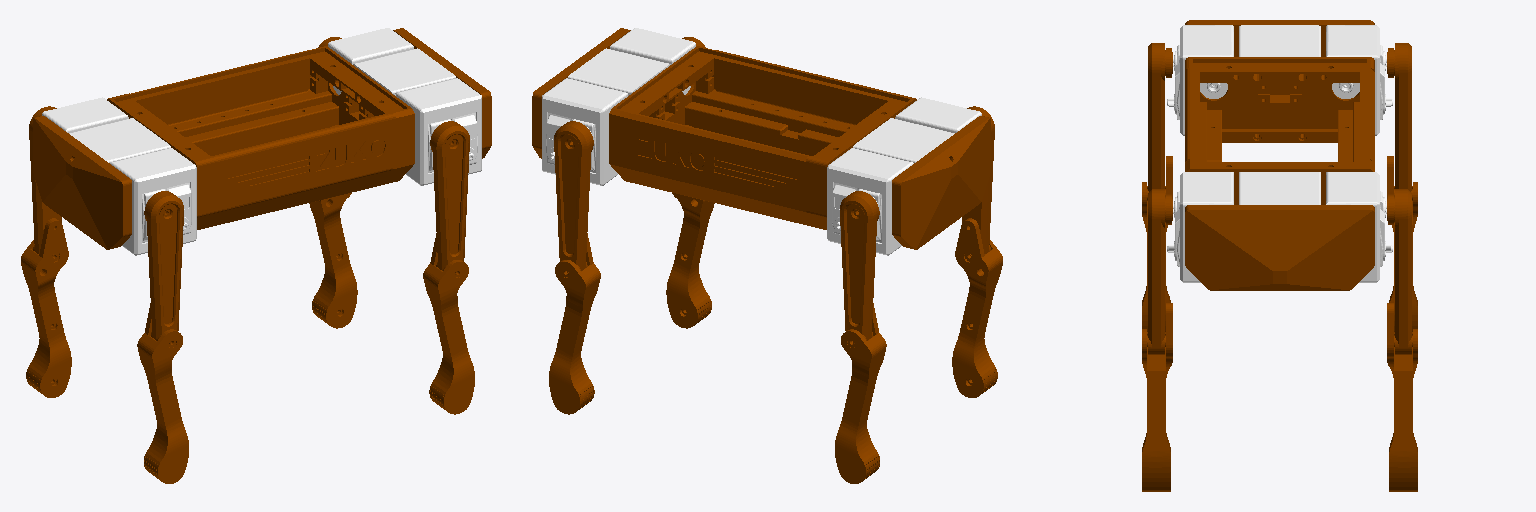
The robot description file, URDF, robot "zuko":
<?xml version="1.0" ?>
<!-- =================================================================================== -->
<!-- |    This document was autogenerated by xacro from [local-path]/zuko/quad_ws/src/quad_udrf/urdf/zuko.urdf.xacro | -->
<!-- |    EDITING THIS FILE BY HAND IS NOT RECOMMENDED                                 | -->
<!-- =================================================================================== -->
<robot name="zuko">
  <!--
<xacro:include filename="$(find quad_urdf)/urdf/zuko_hips_and_legs.urdf.xacro" />
-->
  <material name="brown">
    <color rgba="0.588 0.294 0.0 1"/>
  </material>
  <material name="black">
    <color rgba="0.1 0.1 0.1 1"/>
  </material>
  <material name="white">
    <color rgba="1 1 1 1"/>
  </material>
  <!-- STATIC Links -->
  <link name="base_link">
    <visual>
      <origin rpy="1.5707963267948966 0 -1.5707963267948966" xyz="-0.0025 0 0"/>
      <geometry>
        <mesh filename="package://stl/center_front.stl" scale="1 1 1"/>
      </geometry>
      <material name="brown"/>
    </visual>
    <collision>
      <origin rpy="1.5707963267948966 0 -1.5707963267948966" xyz="0 0 0"/>
      <geometry>
        <box size="0 0 0"/>
      </geometry>
    </collision>
    <inertial>
      <mass value="0.6"/>
      <origin rpy="0 0 0" xyz="0 0 0"/>
      <!-- Inertial Axes -->
      <inertia ixx="0.0" ixy="0" ixz="0" iyx="0" iyy="0.0" iyz="0" izx="0" izy="0" izz="0.0"/>
    </inertial>
  </link>
  <gazebo reference="base_link">
  </gazebo>
  <link name="side_left_link">
    <visual>
      <origin rpy="1.5707963267948966 0 1.5707963267948966" xyz="0 0 0"/>
      <geometry>
        <mesh filename="package://stl/side_left.stl" scale="1 1 1"/>
      </geometry>
      <material name="brown"/>
    </visual>
    <collision>
      <origin rpy="1.5707963267948966 0 1.5707963267948966" xyz="0 0 0"/>
      <geometry>
        <box size="0 0 0"/>
      </geometry>
    </collision>
    <inertial>
      <mass value="0.6"/>
      <origin rpy="0 0 0" xyz="0 0 0"/>
      <!-- Inertial Axes -->
      <inertia ixx="0.0" ixy="0" ixz="0" iyx="0" iyy="0.0" iyz="0" izx="0" izy="0" izz="0.0"/>
    </inertial>
  </link>
  <gazebo reference="side_left_link">
  </gazebo>
  <link name="side_right_link">
    <visual>
      <origin rpy="1.5707963267948966 0 -1.5707963267948966" xyz="0 0 0"/>
      <geometry>
        <mesh filename="package://stl/side_right.stl" scale="1 1 1"/>
      </geometry>
      <material name="brown"/>
    </visual>
    <collision>
      <origin rpy="1.5707963267948966 0 -1.5707963267948966" xyz="0 0 0"/>
      <geometry>
        <box size="0 0 0"/>
      </geometry>
    </collision>
    <inertial>
      <mass value="0.6"/>
      <origin rpy="0 0 0" xyz="0 0 0"/>
      <!-- Inertial Axes -->
      <inertia ixx="0.0" ixy="0" ixz="0" iyx="0" iyy="0.0" iyz="0" izx="0" izy="0" izz="0.0"/>
    </inertial>
  </link>
  <gazebo reference="side_right_link">
  </gazebo>
  <link name="center_back_link">
    <visual>
      <origin rpy="1.5707963267948966 0 1.5707963267948966" xyz="0.0025 0 0"/>
      <geometry>
        <mesh filename="package://stl/center_back.stl" scale="1 1 1"/>
      </geometry>
      <material name="brown"/>
    </visual>
    <collision>
      <origin rpy="1.5707963267948966 0 1.5707963267948966" xyz="0 0 0"/>
      <geometry>
        <box size="0 0 0"/>
      </geometry>
    </collision>
    <inertial>
      <mass value="0.6"/>
      <origin rpy="0 0 0" xyz="0 0 0"/>
      <!-- Inertial Axes -->
      <inertia ixx="0.0" ixy="0" ixz="0" iyx="0" iyy="0.0" iyz="0" izx="0" izy="0" izz="0.0"/>
    </inertial>
  </link>
  <gazebo reference="center_back_link">
  </gazebo>
  <link name="bridge_front_link">
    <visual>
      <origin rpy="1.5707963267948966 0 -1.5707963267948966" xyz="0 0 0"/>
      <geometry>
        <mesh filename="package://stl/bridge_front.stl" scale="1 1 1"/>
      </geometry>
      <material name="white"/>
    </visual>
    <collision>
      <origin rpy="1.5707963267948966 0 -1.5707963267948966" xyz="0 0 0"/>
      <geometry>
        <box size="0 0 0"/>
      </geometry>
    </collision>
    <inertial>
      <mass value="0.6"/>
      <origin rpy="0 0 0" xyz="0 0 0"/>
      <!-- Inertial Axes -->
      <inertia ixx="0.0" ixy="0" ixz="0" iyx="0" iyy="0.0" iyz="0" izx="0" izy="0" izz="0.0"/>
    </inertial>
  </link>
  <gazebo reference="bridge_front_link">
  </gazebo>
  <link name="bridge_back_link">
    <visual>
      <origin rpy="1.5707963267948966 0 -1.5707963267948966" xyz="0 0 0"/>
      <geometry>
        <mesh filename="package://stl/bridge_back.stl" scale="1 1 1"/>
      </geometry>
      <material name="white"/>
    </visual>
    <collision>
      <origin rpy="1.5707963267948966 0 -1.5707963267948966" xyz="0 0 0"/>
      <geometry>
        <box size="0 0 0"/>
      </geometry>
    </collision>
    <inertial>
      <mass value="0.6"/>
      <origin rpy="0 0 0" xyz="0 0 0"/>
      <!-- Inertial Axes -->
      <inertia ixx="0.0" ixy="0" ixz="0" iyx="0" iyy="0.0" iyz="0" izx="0" izy="0" izz="0.0"/>
    </inertial>
  </link>
  <gazebo reference="bridge_back_link">
  </gazebo>
  <link name="face_link">
    <visual>
      <origin rpy="1.5707963267948966 0 1.5707963267948966" xyz="0 0 0"/>
      <geometry>
        <mesh filename="package://stl/face.stl" scale="1 1 1"/>
      </geometry>
      <material name="brown"/>
    </visual>
    <collision>
      <origin rpy="1.5707963267948966 0 1.5707963267948966" xyz="0 0 0"/>
      <geometry>
        <box size="0 0 0"/>
      </geometry>
    </collision>
    <inertial>
      <mass value="0.6"/>
      <origin rpy="0 0 0" xyz="0 0 0"/>
      <!-- Inertial Axes -->
      <inertia ixx="0.0" ixy="0" ixz="0" iyx="0" iyy="0.0" iyz="0" izx="0" izy="0" izz="0.0"/>
    </inertial>
  </link>
  <gazebo reference="face_link">
  </gazebo>
  <link name="butt_link">
    <visual>
      <origin rpy="1.5707963267948966 0 -1.5707963267948966" xyz="0 0 0"/>
      <geometry>
        <mesh filename="package://stl/butt.stl" scale="1 1 1"/>
      </geometry>
      <material name="brown"/>
    </visual>
    <collision>
      <origin rpy="1.5707963267948966 0 -1.5707963267948966" xyz="0 0 0"/>
      <geometry>
        <box size="0 0 0"/>
      </geometry>
    </collision>
    <inertial>
      <mass value="0.6"/>
      <origin rpy="0 0 0" xyz="0 0 0"/>
      <!-- Inertial Axes -->
      <inertia ixx="0.0" ixy="0" ixz="0" iyx="0" iyy="0.0" iyz="0" izx="0" izy="0" izz="0.0"/>
    </inertial>
  </link>
  <gazebo reference="butt_link">
  </gazebo>
  <!-- STATIC Joints -->
  <joint name="side_left_joint" type="fixed">
    <origin rpy="0 0 0" xyz="-0.16599999999999998 0.060 0.015"/>
    <parent link="base_link"/>
    <child link="side_left_link"/>
  </joint>
  <joint name="side_right_joint" type="fixed">
    <origin rpy="0 0 0" xyz="-0.018 -0.060 0.015"/>
    <parent link="base_link"/>
    <child link="side_right_link"/>
  </joint>
  <joint name="center_back_joint" type="fixed">
    <origin rpy="0 0 0" xyz="-0.18399999999999997 0 0"/>
    <parent link="base_link"/>
    <child link="center_back_link"/>
  </joint>
  <joint name="bridge_front_joint" type="fixed">
    <origin rpy="0 0  0" xyz="0.0535 0 -0.011"/>
    <parent link="base_link"/>
    <child link="bridge_front_link"/>
  </joint>
  <joint name="bridge_back_joint" type="fixed">
    <origin rpy="0 0 0" xyz="0 0 -0.011"/>
    <parent link="center_back_link"/>
    <child link="bridge_back_link"/>
  </joint>
  <joint name="face_joint" type="fixed">
    <origin rpy="0 0 0" xyz="0 0 0"/>
    <parent link="bridge_front_link"/>
    <child link="face_link"/>
  </joint>
  <joint name="butt_joint" type="fixed">
    <origin rpy="0 0 0" xyz="-0.0535 0 0"/>
    <parent link="bridge_back_link"/>
    <child link="butt_link"/>
  </joint>
  <!-- Hips/Legs Links/Joints -->
  <link name="front_left_hip_link">
    <visual>
      <origin rpy="0 0 0" xyz="0 0 0"/>
      <geometry>
        <mesh filename="package://stl/hip_front.stl" scale="1 1 1"/>
      </geometry>
      <material name="white"/>
    </visual>
    <collision>
      <origin rpy="0 0 0" xyz="0 0 0"/>
      <geometry>
        <box size="0 0 0"/>
      </geometry>
    </collision>
    <inertial>
      <mass value="0.6"/>
      <origin rpy="0 0 0" xyz="0 0 0"/>
      <!-- Inertial Axes -->
      <inertia ixx="0.0" ixy="0" ixz="0" iyx="0" iyy="0.0" iyz="0" izx="0" izy="0" izz="0.0"/>
    </inertial>
  </link>
  <gazebo reference="front_left_hip_link">
  </gazebo>
  <joint name="front_left_hip_rev_joint" type="revolute">
    <axis xyz="-1 0 0"/>
    <origin rpy="0 0 3.141592653589793" xyz="0.002 0.0455 0"/>
    <parent link="base_link"/>
    <child link="front_left_hip_link"/>
    <limit effort="4.0" lower="-0.5235987755982988" upper="0.5235987755982988" velocity="4.0"/>
    <joint_properties damping="0.0" friction="0.0"/>
  </joint>
  <link name="front_left_upper_leg_link">
    <visual>
      <origin rpy="-1.5707963267948966 1.5707963267948966 0" xyz="0 0 0"/>
      <geometry>
        <mesh filename="package://stl/upper_leg.stl" scale="1 1 1"/>
      </geometry>
      <material name="brown"/>
    </visual>
    <collision>
      <origin rpy="-1.5707963267948966 1.5707963267948966 0" xyz="0 0 0"/>
      <geometry>
        <box size="0 0 0"/>
      </geometry>
    </collision>
    <inertial>
      <mass value="0.6"/>
      <origin rpy="0 0 0" xyz="0 0 0"/>
      <!-- Inertial Axes -->
      <inertia ixx="0.0" ixy="0" ixz="0" iyx="0" iyy="0.0" iyz="0" izx="0" izy="0" izz="0.0"/>
    </inertial>
  </link>
  <gazebo reference="front_left_upper_leg_link">
  </gazebo>
  <joint name="front_left_upper_leg_rev_joint" type="revolute">
    <axis xyz="0 1 0"/>
    <origin rpy="0 0 3.141592653589793" xyz="-0.0145 -0.03175 0"/>
    <parent link="front_left_hip_link"/>
    <child link="front_left_upper_leg_link"/>
    <limit effort="4.0" lower="0.0" upper="1.9198621771937625" velocity="4.0"/>
    <joint_properties damping="0.0" friction="0.0"/>
  </joint>
  <link name="front_left_lower_leg_link">
    <visual>
      <origin rpy="1.5707963267948966 1.5707963267948966 3.141592653589793" xyz="0 -0.0075 0"/>
      <geometry>
        <mesh filename="package://stl/lower_leg.stl" scale="1 1 1"/>
      </geometry>
      <material name="brown"/>
    </visual>
    <collision>
      <origin rpy="1.5707963267948966 1.5707963267948966 3.141592653589793" xyz="0 0 0"/>
      <geometry>
        <box size="0 0 0"/>
      </geometry>
    </collision>
    <inertial>
      <mass value="0.6"/>
      <origin rpy="0 0 0" xyz="0 0 0"/>
      <!-- Inertial Axes -->
      <inertia ixx="0.0" ixy="0" ixz="0" iyx="0" iyy="0.0" iyz="0" izx="0" izy="0" izz="0.0"/>
    </inertial>
  </link>
  <gazebo reference="front_left_lower_leg_link">
  </gazebo>
  <joint name="front_left_lower_leg_rev_joint" type="revolute">
    <axis xyz="0 -1 0"/>
    <origin rpy="0 0 3.141592653589793" xyz="0 0 -0.1"/>
    <parent link="front_left_upper_leg_link"/>
    <child link="front_left_lower_leg_link"/>
    <limit effort="4.0" lower="-3.141592653589793" upper="3.141592653589793" velocity="4.0"/>
    <joint_properties damping="0.0" friction="0.0"/>
  </joint>
  <link name="front_right_hip_link">
    <visual>
      <origin rpy="0 0 0" xyz="0 0 0"/>
      <geometry>
        <mesh filename="package://stl/hip_front.stl" scale="1 -1 1"/>
      </geometry>
      <material name="white"/>
    </visual>
    <collision>
      <origin rpy="0 0 0" xyz="0 0 0"/>
      <geometry>
        <box size="0 0 0"/>
      </geometry>
    </collision>
    <inertial>
      <mass value="0.6"/>
      <origin rpy="0 0 0" xyz="0 0 0"/>
      <!-- Inertial Axes -->
      <inertia ixx="0.0" ixy="0" ixz="0" iyx="0" iyy="0.0" iyz="0" izx="0" izy="0" izz="0.0"/>
    </inertial>
  </link>
  <gazebo reference="front_right_hip_link">
  </gazebo>
  <joint name="front_right_hip_rev_joint" type="revolute">
    <axis xyz="-1 0 0"/>
    <origin rpy="0 0 3.141592653589793" xyz="0.002 -0.0455 0"/>
    <parent link="base_link"/>
    <child link="front_right_hip_link"/>
    <limit effort="4.0" lower="-0.5235987755982988" upper="0.5235987755982988" velocity="4.0"/>
    <joint_properties damping="0.0" friction="0.0"/>
  </joint>
  <link name="front_right_upper_leg_link">
    <visual>
      <origin rpy="-1.5707963267948966 1.5707963267948966 3.141592653589793" xyz="0 0 0"/>
      <geometry>
        <mesh filename="package://stl/upper_leg.stl" scale="1 1 1"/>
      </geometry>
      <material name="brown"/>
    </visual>
    <collision>
      <origin rpy="-1.5707963267948966 1.5707963267948966 3.141592653589793" xyz="0 0 0"/>
      <geometry>
        <box size="0 0 0"/>
      </geometry>
    </collision>
    <inertial>
      <mass value="0.6"/>
      <origin rpy="0 0 0" xyz="0 0 0"/>
      <!-- Inertial Axes -->
      <inertia ixx="0.0" ixy="0" ixz="0" iyx="0" iyy="0.0" iyz="0" izx="0" izy="0" izz="0.0"/>
    </inertial>
  </link>
  <gazebo reference="front_right_upper_leg_link">
  </gazebo>
  <joint name="front_right_upper_leg_rev_joint" type="revolute">
    <axis xyz="0 1 0"/>
    <origin rpy="0 0 3.141592653589793" xyz="-0.0145 0.03175 0"/>
    <parent link="front_right_hip_link"/>
    <child link="front_right_upper_leg_link"/>
    <limit effort="4.0" lower="0.0" upper="1.9198621771937625" velocity="4.0"/>
    <joint_properties damping="0.0" friction="0.0"/>
  </joint>
  <link name="front_right_lower_leg_link">
    <visual>
      <origin rpy="1.5707963267948966 1.5707963267948966  3.141592653589793" xyz="0 0.0075 0"/>
      <geometry>
        <mesh filename="package://stl/lower_leg.stl" scale="1 1 -1"/>
      </geometry>
      <material name="brown"/>
    </visual>
    <collision>
      <origin rpy="1.5707963267948966 1.5707963267948966  3.141592653589793" xyz="0 0 -0.06"/>
      <geometry>
        <box size="0 0 0"/>
      </geometry>
    </collision>
    <inertial>
      <mass value="0.6"/>
      <origin rpy="0 0 0" xyz="0 0 0"/>
      <!-- Inertial Axes -->
      <inertia ixx="0.0" ixy="0" ixz="0" iyx="0" iyy="0.0" iyz="0" izx="0" izy="0" izz="0.0"/>
    </inertial>
  </link>
  <gazebo reference="front_right_lower_leg_link">
  </gazebo>
  <joint name="front_right_lower_leg_rev_joint" type="revolute">
    <axis xyz="0 -1 0"/>
    <origin rpy="0 0 3.141592653589793" xyz="0 0 -0.1"/>
    <parent link="front_right_upper_leg_link"/>
    <child link="front_right_lower_leg_link"/>
    <limit effort="4.0" lower="-3.141592653589793" upper="3.141592653589793" velocity="4.0"/>
    <joint_properties damping="0.0" friction="0.0"/>
  </joint>
  <link name="back_left_hip_link">
    <visual>
      <origin rpy="0 0 3.141592653589793" xyz="0 0 0"/>
      <geometry>
        <mesh filename="package://stl/hip_back.stl" scale="1 1 1"/>
      </geometry>
      <material name="white"/>
    </visual>
    <collision>
      <origin rpy="0 0 3.141592653589793" xyz="0 0 0"/>
      <geometry>
        <box size="0 0 0"/>
      </geometry>
    </collision>
    <inertial>
      <mass value="0.6"/>
      <origin rpy="0 0 0" xyz="0 0 0"/>
      <!-- Inertial Axes -->
      <inertia ixx="0.0" ixy="0" ixz="0" iyx="0" iyy="0.0" iyz="0" izx="0" izy="0" izz="0.0"/>
    </inertial>
  </link>
  <gazebo reference="back_left_hip_link">
  </gazebo>
  <joint name="back_left_hip_rev_joint" type="revolute">
    <axis xyz="1 0 0"/>
    <origin rpy="0 0 0" xyz="-0.002 0.0455 0"/>
    <parent link="center_back_link"/>
    <child link="back_left_hip_link"/>
    <limit effort="4.0" lower="-0.5235987755982988" upper="0.5235987755982988" velocity="4.0"/>
    <joint_properties damping="0.0" friction="0.0"/>
  </joint>
  <link name="back_left_upper_leg_link">
    <visual>
      <origin rpy="-1.5707963267948966 1.5707963267948966 0" xyz="0 0 0"/>
      <geometry>
        <mesh filename="package://stl/upper_leg.stl" scale="1 1 1"/>
      </geometry>
      <material name="brown"/>
    </visual>
    <collision>
      <origin rpy="-1.5707963267948966 1.5707963267948966 0" xyz="0 0 0"/>
      <geometry>
        <box size="0 0 0"/>
      </geometry>
    </collision>
    <inertial>
      <mass value="0.6"/>
      <origin rpy="0 0 0" xyz="0 0 0"/>
      <!-- Inertial Axes -->
      <inertia ixx="0.0" ixy="0" ixz="0" iyx="0" iyy="0.0" iyz="0" izx="0" izy="0" izz="0.0"/>
    </inertial>
  </link>
  <gazebo reference="back_left_upper_leg_link">
  </gazebo>
  <joint name="back_left_upper_leg_rev_joint" type="revolute">
    <axis xyz="0 1 0"/>
    <origin rpy="0 0 0" xyz="-0.035500000000000004 0.03175 0"/>
    <parent link="back_left_hip_link"/>
    <child link="back_left_upper_leg_link"/>
    <limit effort="4.0" lower="0.0" upper="1.9198621771937625" velocity="4.0"/>
    <joint_properties damping="0.0" friction="0.0"/>
  </joint>
  <link name="back_left_lower_leg_link">
    <visual>
      <origin rpy="1.5707963267948966 1.5707963267948966 3.141592653589793" xyz="0 -0.0075 0"/>
      <geometry>
        <mesh filename="package://stl/lower_leg.stl" scale="1 1 1"/>
      </geometry>
      <material name="brown"/>
    </visual>
    <collision>
      <origin rpy="1.5707963267948966 1.5707963267948966 3.141592653589793" xyz="0 0 0"/>
      <geometry>
        <box size="0 0 0"/>
      </geometry>
    </collision>
    <inertial>
      <mass value="0.6"/>
      <origin rpy="0 0 0" xyz="0 0 0"/>
      <!-- Inertial Axes -->
      <inertia ixx="0.0" ixy="0" ixz="0" iyx="0" iyy="0.0" iyz="0" izx="0" izy="0" izz="0.0"/>
    </inertial>
  </link>
  <gazebo reference="back_left_lower_leg_link">
  </gazebo>
  <joint name="back_left_lower_leg_rev_joint" type="revolute">
    <axis xyz="0 -1 0"/>
    <origin rpy="0 0 3.141592653589793" xyz="0 0 -0.1"/>
    <parent link="back_left_upper_leg_link"/>
    <child link="back_left_lower_leg_link"/>
    <limit effort="4.0" lower="-3.141592653589793" upper="3.141592653589793" velocity="4.0"/>
    <joint_properties damping="0.0" friction="0.0"/>
  </joint>
  <link name="back_right_hip_link">
    <visual>
      <origin rpy="0 0 3.141592653589793" xyz="0 0 0"/>
      <geometry>
        <mesh filename="package://stl/hip_back.stl" scale="1 -1 1"/>
      </geometry>
      <material name="white"/>
    </visual>
    <collision>
      <origin rpy="0 0 3.141592653589793" xyz="0 0 0"/>
      <geometry>
        <box size="0 0 0"/>
      </geometry>
    </collision>
    <inertial>
      <mass value="0.6"/>
      <origin rpy="0 0 0" xyz="0 0 0"/>
      <!-- Inertial Axes -->
      <inertia ixx="0.0" ixy="0" ixz="0" iyx="0" iyy="0.0" iyz="0" izx="0" izy="0" izz="0.0"/>
    </inertial>
  </link>
  <gazebo reference="back_right_hip_link">
  </gazebo>
  <joint name="back_right_hip_rev_joint" type="revolute">
    <axis xyz="1 0 0"/>
    <origin rpy="0 0 0" xyz="-0.002 -0.0455 0"/>
    <parent link="center_back_link"/>
    <child link="back_right_hip_link"/>
    <limit effort="4.0" lower="-0.5235987755982988" upper="0.5235987755982988" velocity="4.0"/>
    <joint_properties damping="0.0" friction="0.0"/>
  </joint>
  <link name="back_right_upper_leg_link">
    <visual>
      <origin rpy="-1.5707963267948966 1.5707963267948966 3.141592653589793 " xyz="0 0 0"/>
      <geometry>
        <mesh filename="package://stl/upper_leg.stl" scale="1 1 1"/>
      </geometry>
      <material name="brown"/>
    </visual>
    <collision>
      <origin rpy="-1.5707963267948966 1.5707963267948966 3.141592653589793 " xyz="0 0 0"/>
      <geometry>
        <box size="0 0 0"/>
      </geometry>
    </collision>
    <inertial>
      <mass value="0.6"/>
      <origin rpy="0 0 0" xyz="0 0 0"/>
      <!-- Inertial Axes -->
      <inertia ixx="0.0" ixy="0" ixz="0" iyx="0" iyy="0.0" iyz="0" izx="0" izy="0" izz="0.0"/>
    </inertial>
  </link>
  <gazebo reference="back_right_upper_leg_link">
  </gazebo>
  <joint name="back_right_upper_leg_rev_joint" type="revolute">
    <axis xyz="0 1 0"/>
    <origin rpy="0 0 0" xyz="-0.035500000000000004 -0.03175 0"/>
    <parent link="back_right_hip_link"/>
    <child link="back_right_upper_leg_link"/>
    <limit effort="4.0" lower="0.0" upper="1.9198621771937625" velocity="4.0"/>
    <joint_properties damping="0.0" friction="0.0"/>
  </joint>
  <link name="back_right_lower_leg_link">
    <visual>
      <origin rpy="1.5707963267948966 1.5707963267948966 3.141592653589793" xyz="0 0.0075 0"/>
      <geometry>
        <mesh filename="package://stl/lower_leg.stl" scale="1 1 -1"/>
      </geometry>
      <material name="brown"/>
    </visual>
    <collision>
      <origin rpy="1.5707963267948966 1.5707963267948966 3.141592653589793" xyz="0  -0.06 0"/>
      <geometry>
        <box size="0 0 0"/>
      </geometry>
    </collision>
    <inertial>
      <mass value="0.6"/>
      <origin rpy="0 0 0" xyz="0 0 0"/>
      <!-- Inertial Axes -->
      <inertia ixx="0.0" ixy="0" ixz="0" iyx="0" iyy="0.0" iyz="0" izx="0" izy="0" izz="0.0"/>
    </inertial>
  </link>
  <gazebo reference="back_right_lower_leg_link">
  </gazebo>
  <joint name="back_right_lower_leg_rev_joint" type="revolute">
    <axis xyz="0 -1 0"/>
    <origin rpy="0 0 3.141592653589793" xyz="0 0 -0.1"/>
    <parent link="back_right_upper_leg_link"/>
    <child link="back_right_lower_leg_link"/>
    <limit effort="4.0" lower="-3.141592653589793" upper="3.141592653589793" velocity="4.0"/>
    <joint_properties damping="0.0" friction="0.0"/>
  </joint>
  <!--
<xacro:transmission leg="front_left"/>
<xacro:transmission leg="front_right"/>
<xacro:transmission leg="back_left"/>
<xacro:transmission leg="back_right"/>  
-->
</robot>

--- Facts derived from the render (not from the file) ---
3 views of the same robot in one strip: view 1: azimuth 30°, elevation 25°; view 2: azimuth 150°, elevation 25°; view 3: azimuth 270°, elevation 25° (orthographic).
Robot: zuko — 20 links, 19 joints (12 revolute, 7 fixed); root link base_link; default pose: all joints at 0.
Visible links, largest first — view 1: side_right_link, side_left_link, butt_link, base_link, back_left_lower_leg_link, front_right_lower_leg_link, back_right_lower_leg_link, front_right_hip_link, front_right_upper_leg_link, back_right_upper_leg_link, back_right_hip_link, front_left_lower_leg_link (+7 smaller); view 2: side_left_link, side_right_link, butt_link, base_link, back_right_lower_leg_link, front_left_lower_leg_link, back_left_lower_leg_link, front_left_hip_link, front_left_upper_leg_link, back_left_upper_leg_link, back_left_hip_link, front_right_lower_leg_link (+7 smaller); view 3: face_link, center_back_link, front_left_lower_leg_link, front_right_lower_leg_link, front_left_upper_leg_link, front_right_upper_leg_link, back_left_hip_link, back_right_hip_link, front_left_hip_link, front_right_hip_link, back_left_upper_leg_link, back_right_upper_leg_link (+8 smaller).
Boxes of the visible links, bbox=[...] form: side_right_link: bbox=[203, 112, 395, 228]; side_left_link: bbox=[131, 50, 323, 155]; butt_link: bbox=[33, 116, 131, 249]; base_link: bbox=[306, 46, 414, 184]; back_left_lower_leg_link: bbox=[21, 218, 71, 397]; front_right_lower_leg_link: bbox=[423, 233, 474, 414]; back_right_lower_leg_link: bbox=[137, 303, 188, 483]; front_right_hip_link: bbox=[396, 78, 481, 185]; front_right_upper_leg_link: bbox=[430, 121, 469, 277]; back_right_upper_leg_link: bbox=[144, 191, 183, 347]; back_right_hip_link: bbox=[110, 148, 196, 255]; front_left_lower_leg_link: bbox=[309, 193, 357, 328]; side_left_link: bbox=[629, 112, 820, 228]; side_right_link: bbox=[700, 50, 893, 155]; butt_link: bbox=[892, 116, 990, 249]; base_link: bbox=[609, 46, 717, 185]; back_right_lower_leg_link: bbox=[952, 218, 1002, 397]; front_left_lower_leg_link: bbox=[549, 233, 600, 414]; back_left_lower_leg_link: bbox=[835, 303, 886, 483]; front_left_hip_link: bbox=[542, 78, 627, 185]; front_left_upper_leg_link: bbox=[554, 121, 593, 277]; back_left_upper_leg_link: bbox=[840, 191, 879, 347]; back_left_hip_link: bbox=[827, 148, 913, 255]; front_right_lower_leg_link: bbox=[666, 193, 714, 328]; face_link: bbox=[1185, 205, 1374, 290]; center_back_link: bbox=[1185, 57, 1374, 142]; front_left_lower_leg_link: bbox=[1387, 303, 1417, 491]; front_right_lower_leg_link: bbox=[1142, 303, 1172, 491]; front_left_upper_leg_link: bbox=[1387, 189, 1412, 354]; front_right_upper_leg_link: bbox=[1147, 189, 1172, 354]; back_left_hip_link: bbox=[1326, 25, 1392, 135]; back_right_hip_link: bbox=[1167, 25, 1233, 135]; front_left_hip_link: bbox=[1326, 172, 1392, 282]; front_right_hip_link: bbox=[1167, 172, 1233, 282]; back_left_upper_leg_link: bbox=[1387, 43, 1412, 200]; back_right_upper_leg_link: bbox=[1147, 43, 1172, 200].
Bounding box of the posed robot: 0.326 × 0.19 × 0.2342 m (x, y, z).
20 mesh visuals loaded from 12 distinct referenced files (12 binary STL).
